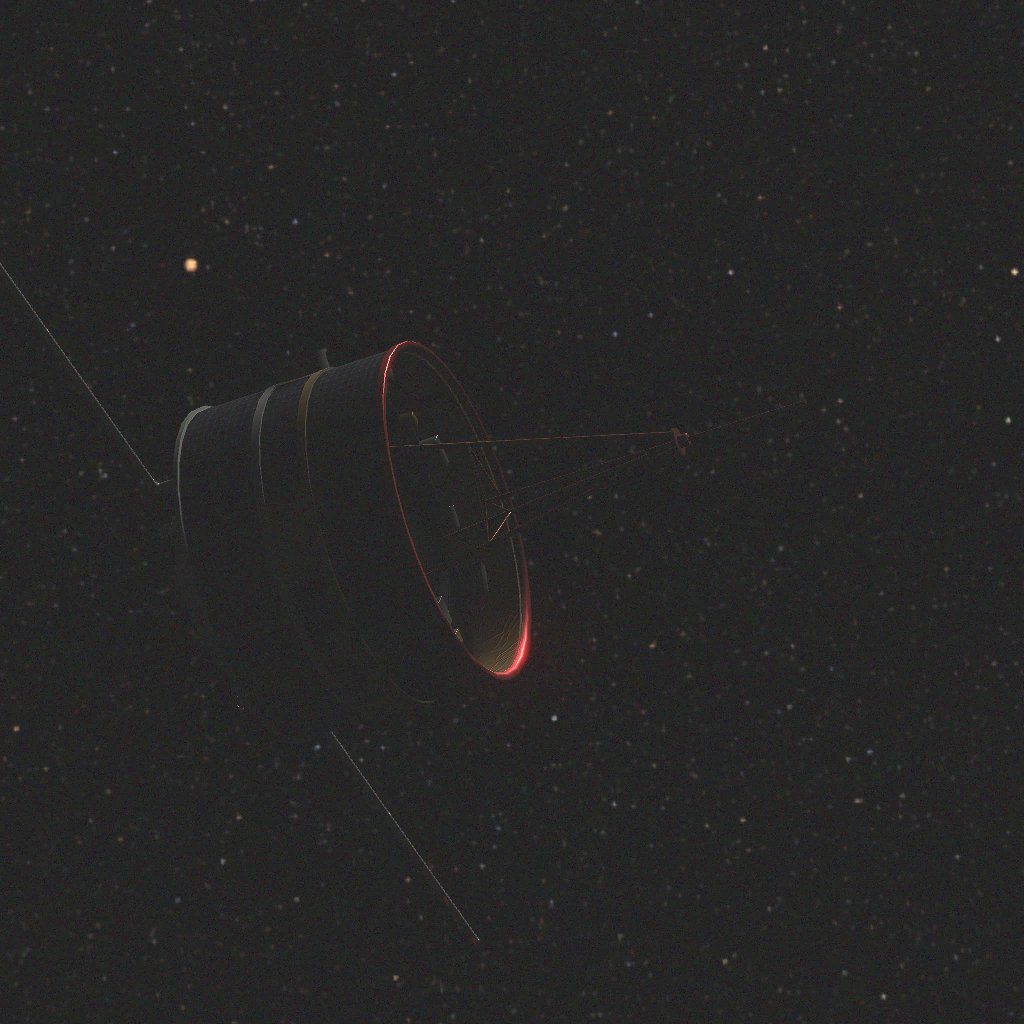double_star: (0, 264, 807, 947)
